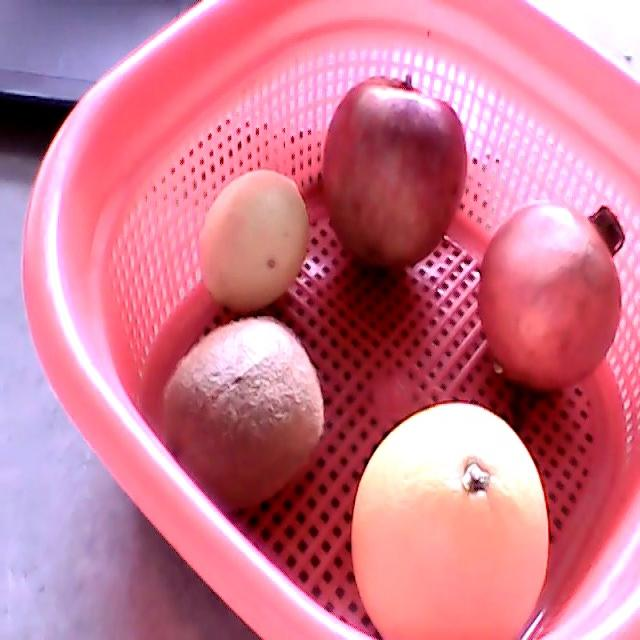apple: (323, 74, 469, 270)
kiwi: (161, 318, 325, 513)
lemon: (199, 170, 310, 311)
orange: (350, 402, 548, 639)
pomegranate: (477, 204, 626, 391)
